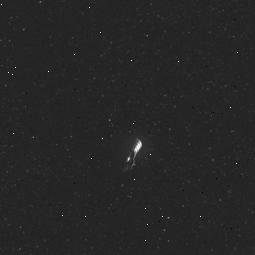debris: (108, 124, 147, 179)
